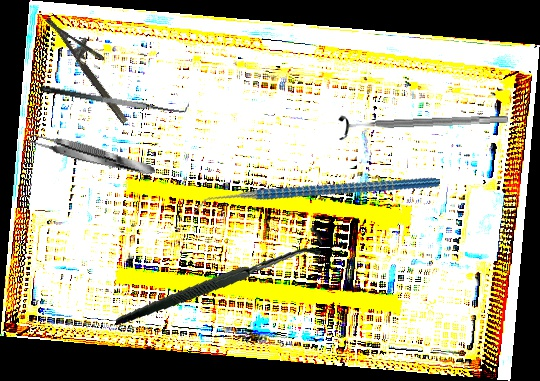Chopper: (191, 119, 441, 274)
Fixation Ring: (337, 105, 509, 142)
Hook Surgical: (115, 203, 324, 349)
Needle Holder: (45, 5, 142, 125)
Spatula Surgical: (39, 72, 190, 122)
Tissue Forceps: (27, 129, 158, 181)
